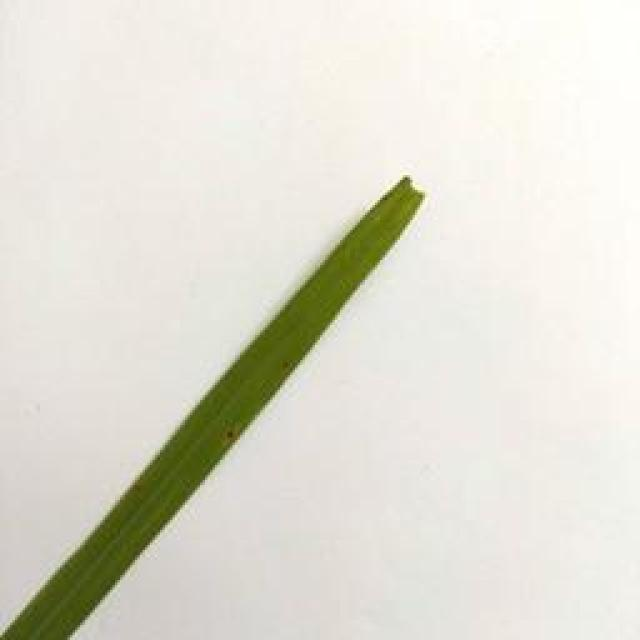Brown_Spot: (215, 424, 244, 448), (276, 354, 296, 373)
